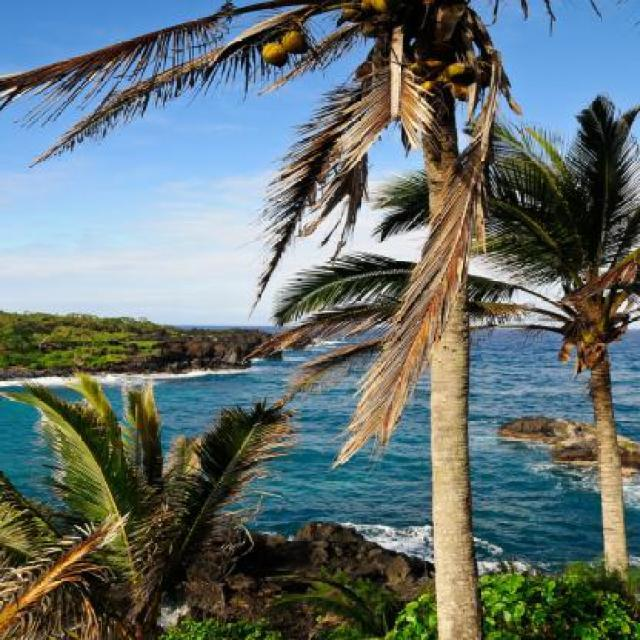Coconut: (417, 53, 497, 102), (337, 0, 415, 42), (279, 28, 313, 55), (259, 42, 292, 68)
